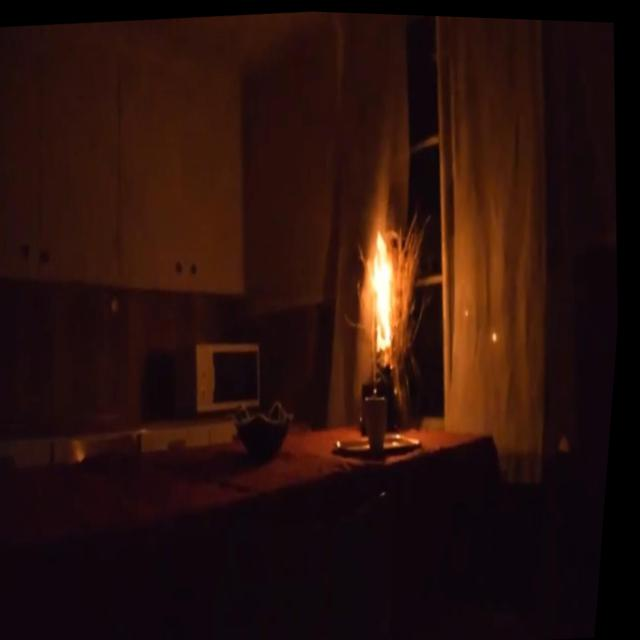fire: (353, 213, 412, 349)
